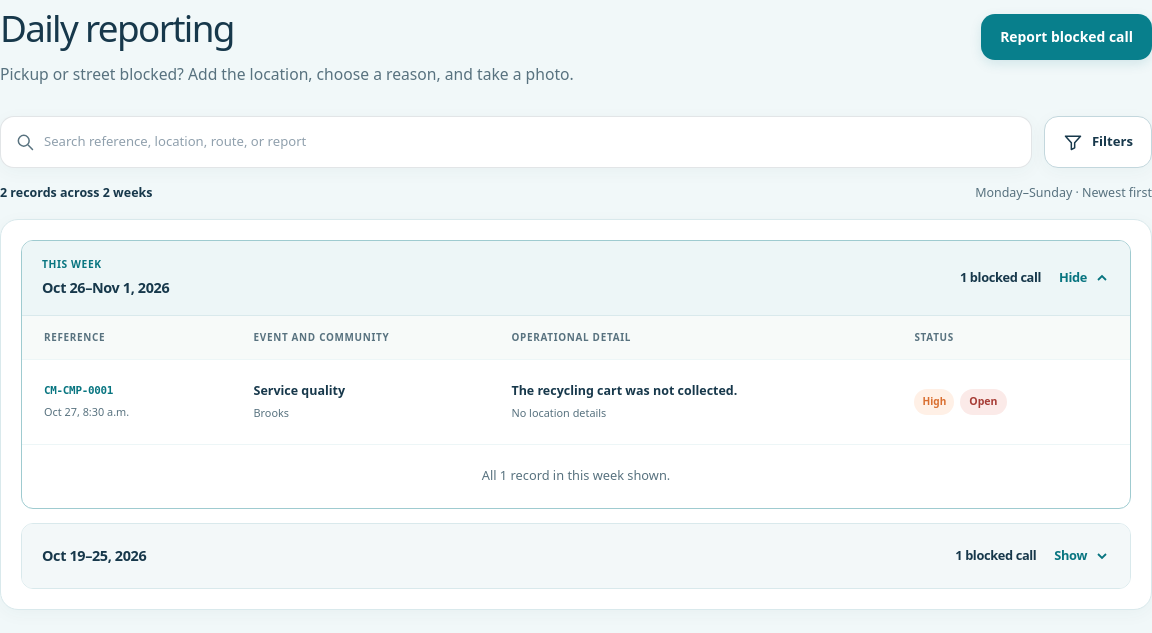
Scenario: lazy register › starts daily with no filters, opens this week, and loads older weeks only on demand
Expected: the button "CM-CMP-0001" is shown, [22,360,1130,444]
Click the button "Oct 19–25, 2026 1 blocked call Show" at (94, 555), box [22,524,1130,588]
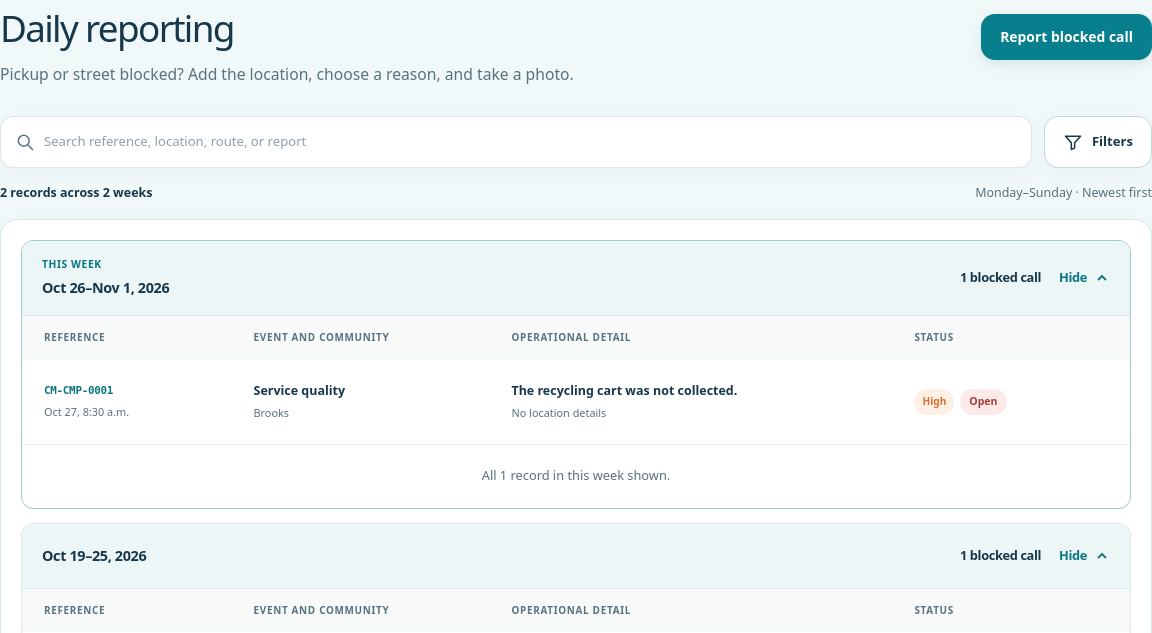
Click the button "Oct 19–25, 2026 1 blocked call Hide" at (94, 555), box [22,524,1130,588]
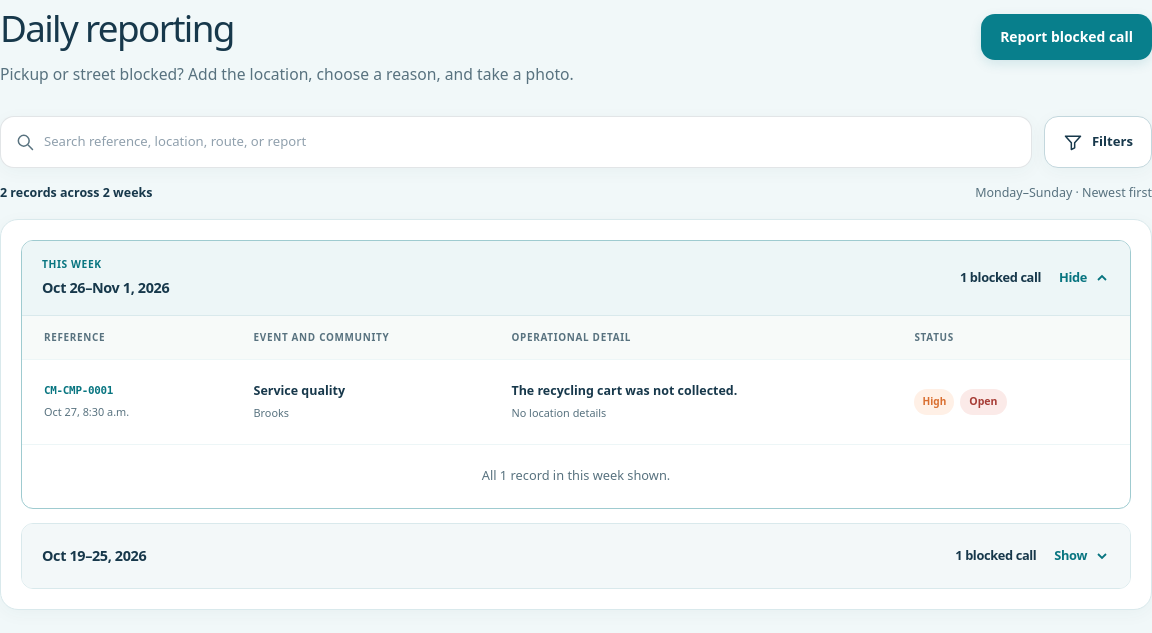
Click the button "Oct 19–25, 2026 1 blocked call Show" at (94, 555), box [22,524,1130,588]
(page scrolled)
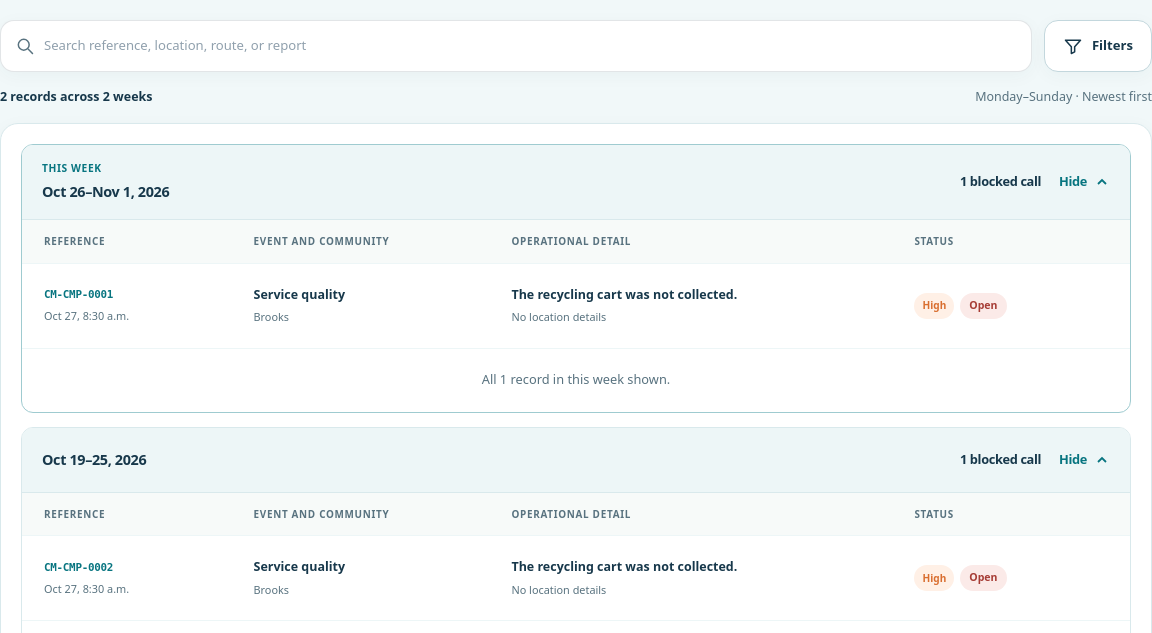
Result: the button "CM-CMP-0002" is shown at [22,536,1130,620]
